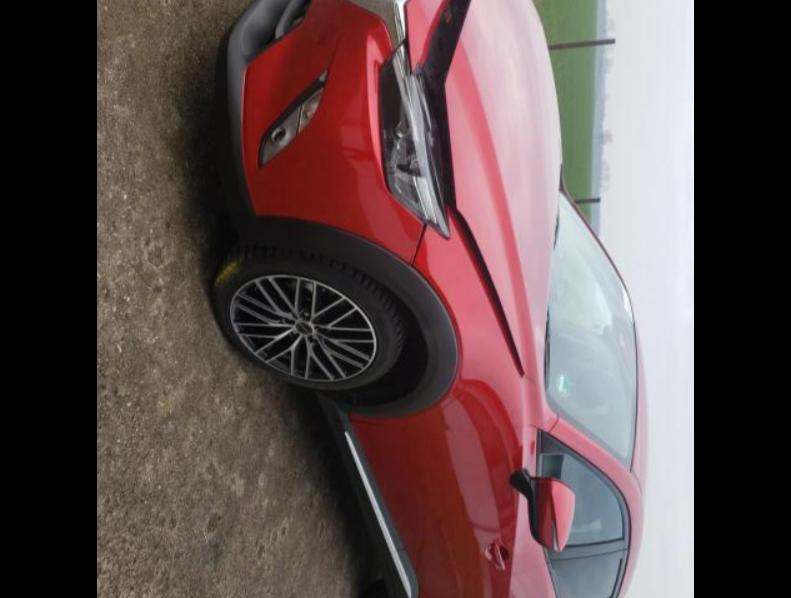Broken part: (416, 0, 532, 382)
Paint chip: (412, 58, 421, 76)
